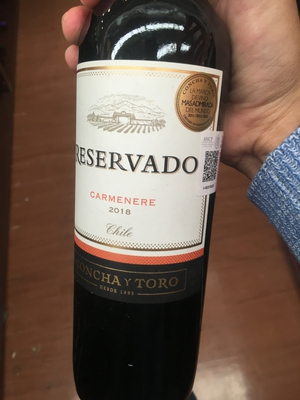reservado carmenere: (64, 12, 224, 400)
